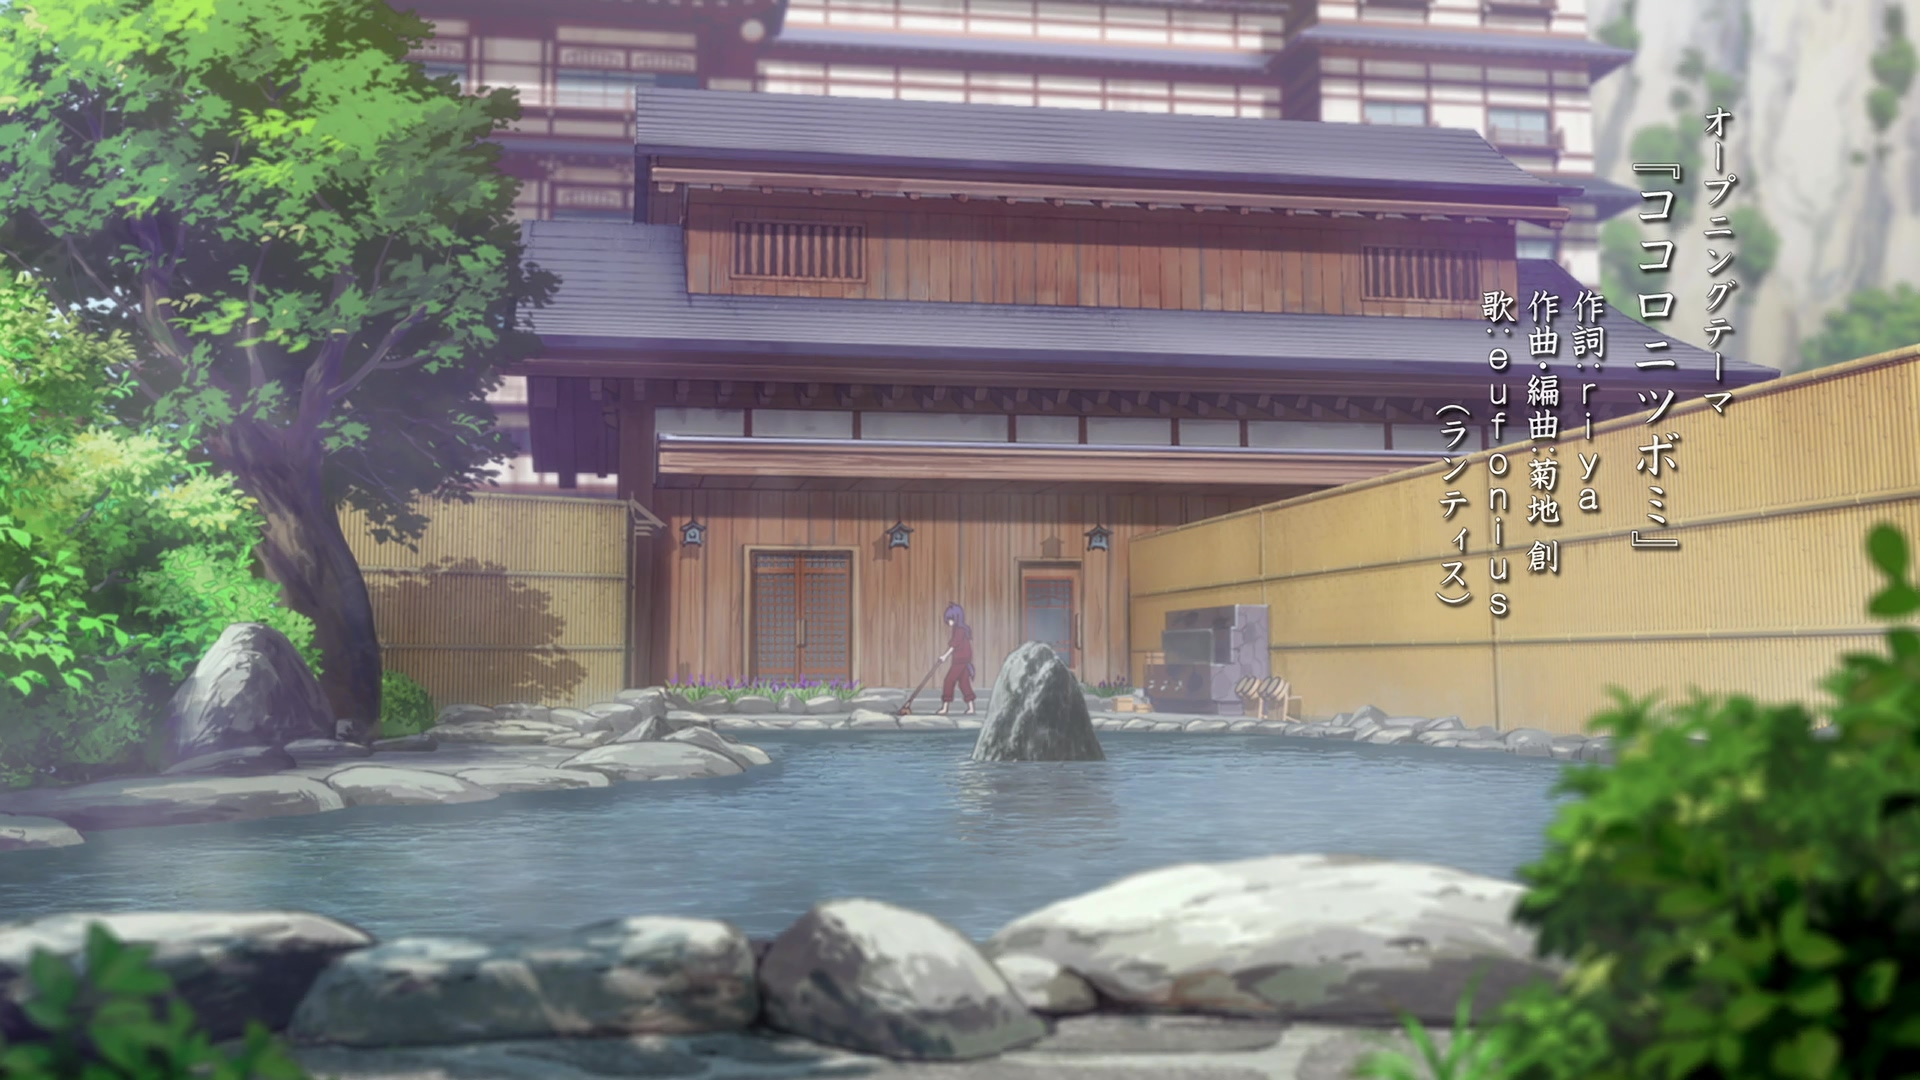皋: (938, 603, 978, 713)
